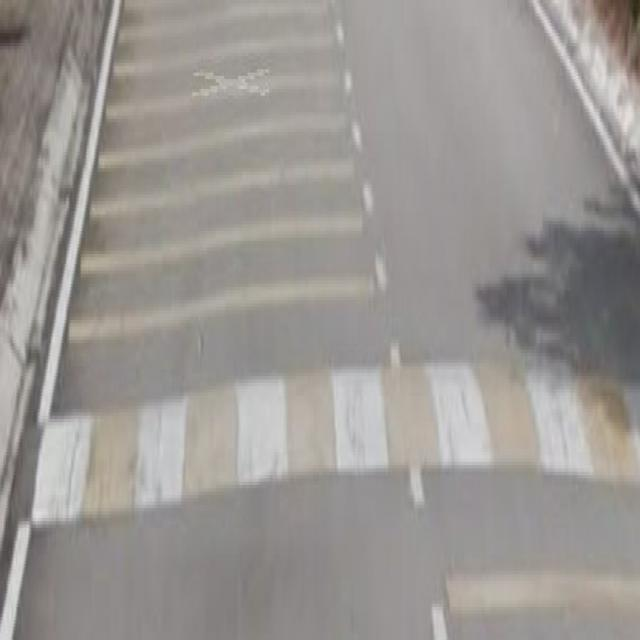speed-bump: (18, 317, 640, 561)
